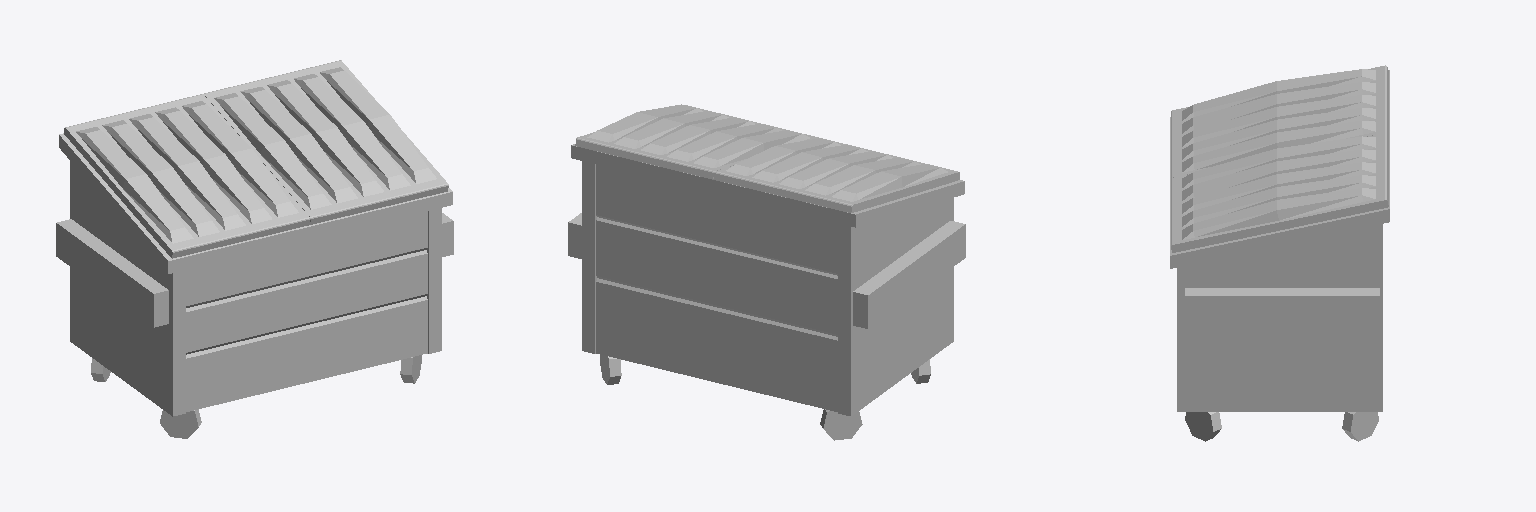
File: dumpster.obj
The picture shows the model from 3 angles: view 1: azimuth 30°, elevation 25°; view 2: azimuth 150°, elevation 25°; view 3: azimuth 270°, elevation 25°; orthographic projection.
Visible parts, largest first — view 1: dumpster; view 2: dumpster; view 3: dumpster.
Boxes of the visible parts, x1=… form: dumpster: x1=56, y1=60, x2=453, y2=438; dumpster: x1=568, y1=104, x2=965, y2=440; dumpster: x1=1170, y1=65, x2=1389, y2=441.
Size of the model in its own units: 2.08 by 1.65 by 1.32.